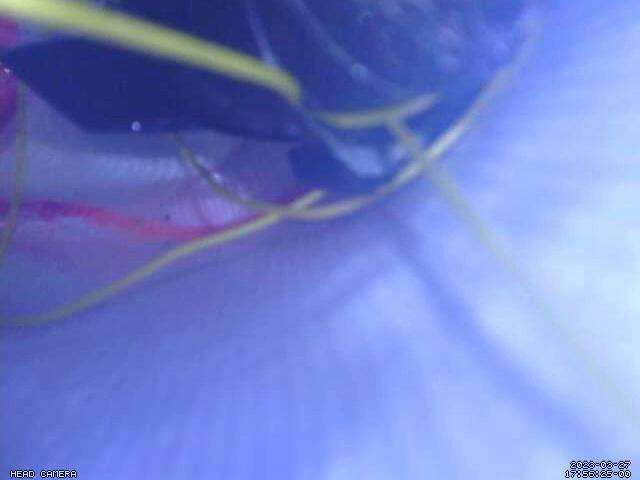head: (0, 17, 308, 242)
